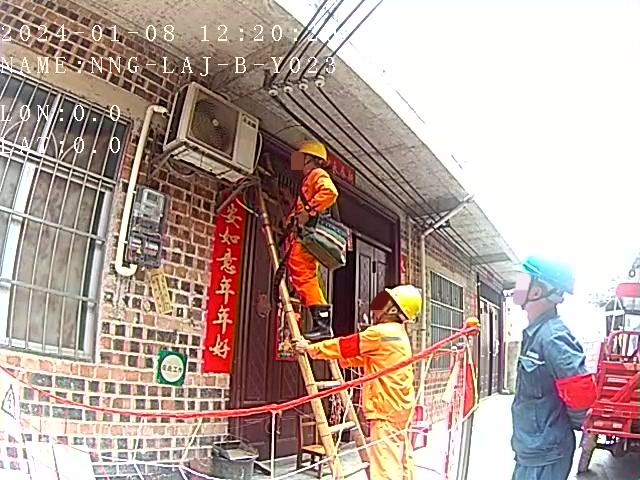halt: (516, 257, 577, 320), (375, 287, 425, 328), (298, 145, 330, 174)
inear: (525, 282, 562, 315), (384, 302, 404, 321)
